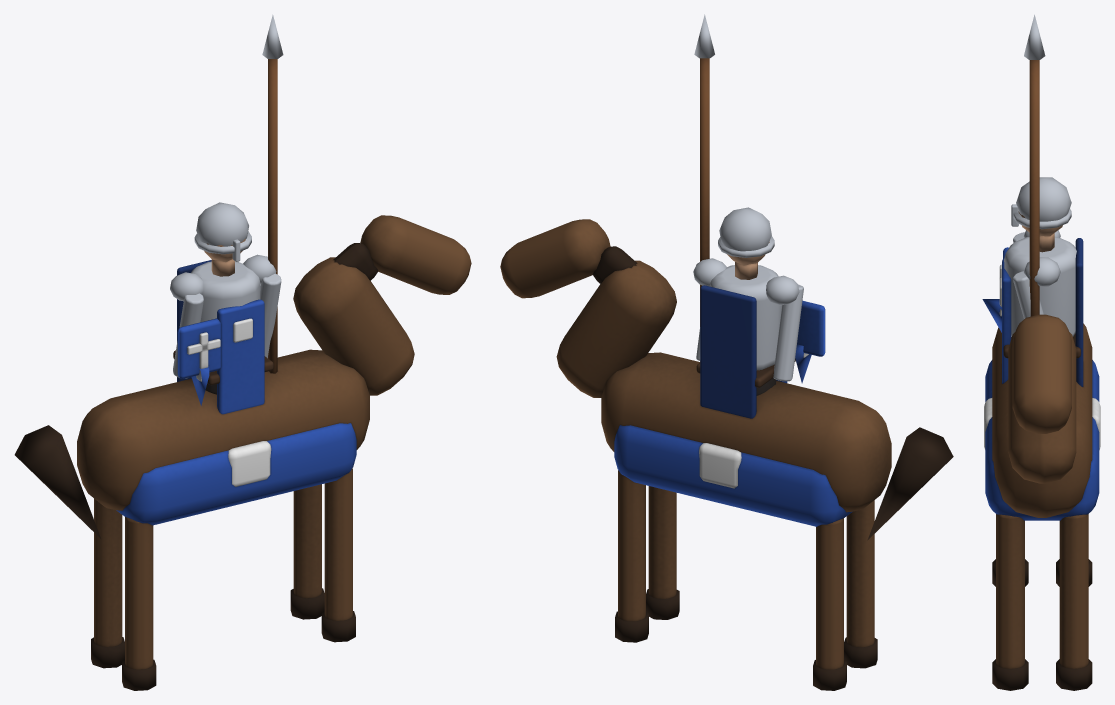
The model's file is knight_blue.glb.
3 renders of one model, left to right at view 1: azimuth 30°, elevation 25°; view 2: azimuth 150°, elevation 25°; view 3: azimuth 270°, elevation 25°, orthographic. The views are drawn at different scales.
Visible parts, largest first — view 1: horse_body; view 2: horse_body; view 3: horse_body.
Boxes of the visible parts, <box> form: horse_body: <box>14,14,471,690</box>; horse_body: <box>500,14,953,690</box>; horse_body: <box>982,14,1100,690</box>.
Size of the model in its own units: 0.5797 by 0.7785 by 0.1299.
Materials: 2 (1 with a texture image).
